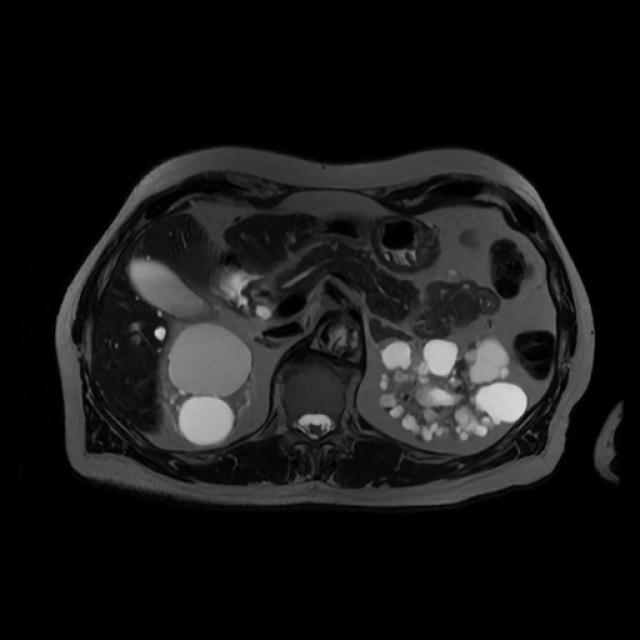sag: (169, 324, 251, 446)
sol: (382, 337, 529, 439)
